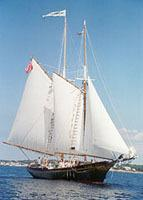Ship: (5, 11, 136, 186)
